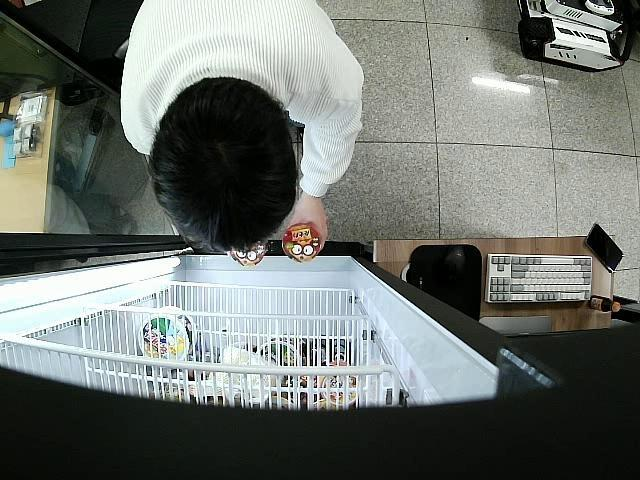06_nuguri_S: (283, 224, 322, 264)
